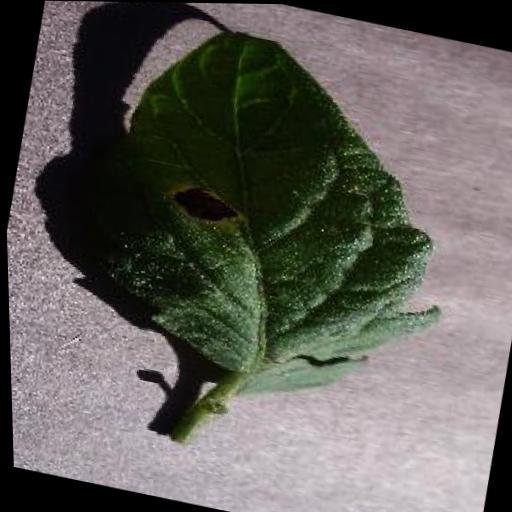Early Blight: (76, 6, 492, 432)
